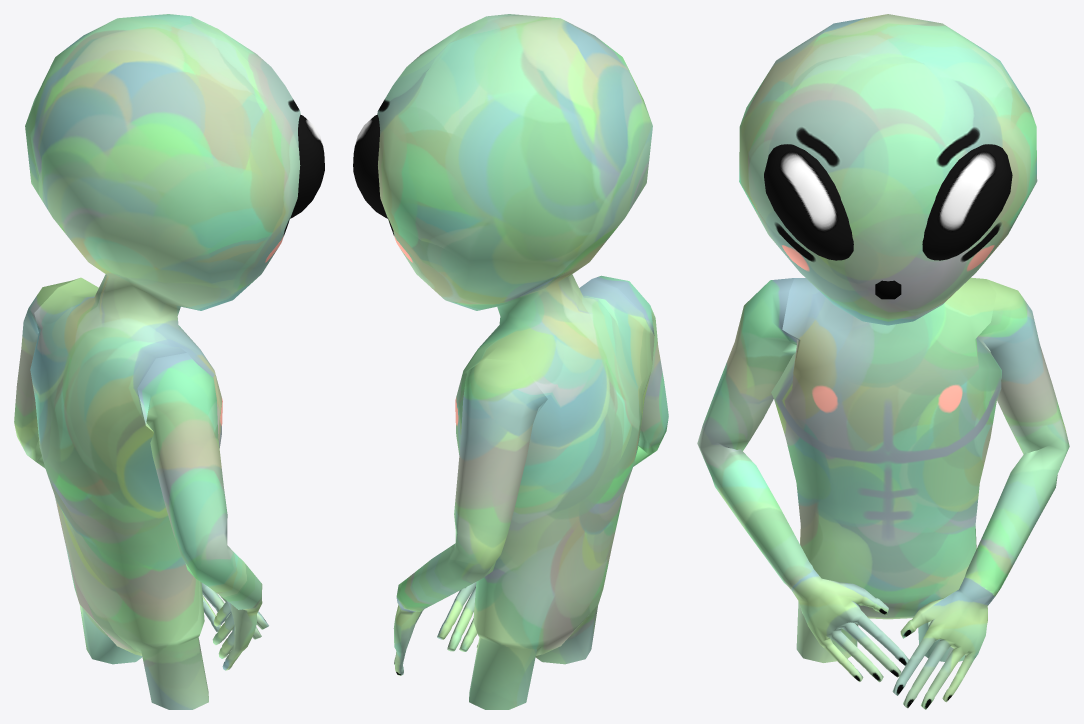
The model's file is Alien.glb.
3 renders of one model, left to right at view 1: azimuth 30°, elevation 25°; view 2: azimuth 150°, elevation 25°; view 3: azimuth 270°, elevation 25°, orthographic. The views are drawn at different scales.
Visible parts, largest first — view 1: Char_002_CoolAlien; view 2: Char_002_CoolAlien; view 3: Char_002_CoolAlien.
Boxes of the visible parts, bbox=[...] form: Char_002_CoolAlien: bbox=[14, 14, 324, 709]; Char_002_CoolAlien: bbox=[353, 14, 668, 709]; Char_002_CoolAlien: bbox=[697, 14, 1069, 709].
Size of the model in its own units: 0.419 by 1.09 by 0.5793.
Materials: 1 (1 with a texture image).
